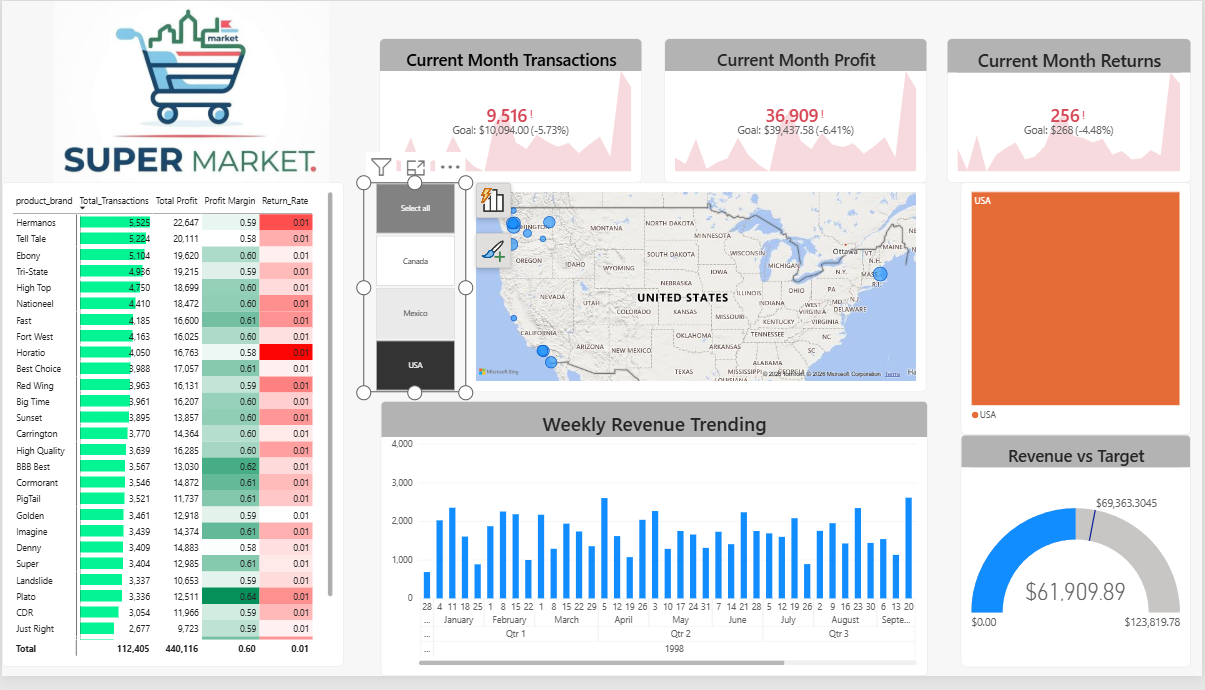

The dashboard page shown, as its layout file describes it:
{"tool":"powerbi","page":{"name":"Topline Performance","canvas":[1920,1080],"ordinal":0},"visuals":[{"type":"textbox","box":[10,580,280,280],"z":0},{"type":"pivotTable","fields":{"Rows":["Products.product_brand"],"Values":["Transaction_Data.Total_Transactions","Transaction_Data.Total Profit","Transaction_Data.Profit Margin","All Measures.Return_Rate"]},"box":[0,290,546.7,775],"z":2000},{"type":"kpi","title":"Current Month Transactions","fields":{"Goal":["Transaction_Data.Last Month Transactions"],"Indicator":["Transaction_Data.Total_Transactions"],"TrendLine":["Calendar.Start of Month"]},"box":[604,60,420,230],"z":3000},{"type":"kpi","title":"Current Month Profit","fields":{"Goal":["Transaction_Data.Last Month Profit"],"Indicator":["Transaction_Data.Total Profit"],"TrendLine":["Calendar.Start of Month"]},"box":[1060,60,420,230],"z":4000},{"type":"kpi","title":"Current Month Returns","fields":{"Goal":["Transaction_Data.Last Month Returns"],"Indicator":["Returns_Data.Total_Returns"],"TrendLine":["Calendar.Start of Month"]},"box":[1512,60,390,230],"z":5000},{"type":"map","fields":{"Category":["Stores.store_city"],"Size":["Transaction_Data.Total_Transactions"]},"box":[742.5,290,737.5,335],"z":6000},{"type":"slicer","fields":{"Values":["Stores.store_country"]},"box":[577.5,290,165,335],"z":7000},{"type":"treemap","fields":{"Group":["Stores.store_country","Stores.store_state","Stores.store_city"],"Values":["Transaction_Data.Total_Transactions"]},"box":[1534,290,368,404],"z":8000},{"type":"clusteredColumnChart","title":"Weekly Revenue Trending","fields":{"Category":["Calendar.Start of Week.Variation.Date Hierarchy.Year","Calendar.Start of Week.Variation.Date Hierarchy.Quarter","Calendar.Start of Week.Variation.Date Hierarchy.Month","Calendar.Start of Week.Variation.Date Hierarchy.Day"],"Y":["Transaction_Data.Total_Transactions"]},"box":[605,640,875,440],"z":9000},{"type":"gauge","title":"Revenue vs Target","fields":{"TargetValue":["Transaction_Data.Revenue Target"],"Y":["Transaction_Data.Total Revenue"]},"box":[1534,694,368,372],"z":9001},{"type":"image","box":[10,18,536,258],"z":9002}]}

Visuals, with their boxes in screenshot pixels (x1, y1, x2, y2), scaled from the page's 1920x1080 canvas onto the 1205x690 screenshot:
textbox: pyautogui.locateOnScreen(6, 371, 182, 549)
pivotTable - Products.product_brand x Transaction_Data.Total_Transactions: pyautogui.locateOnScreen(0, 185, 343, 680)
"Current Month Transactions" kpi: pyautogui.locateOnScreen(379, 38, 643, 185)
"Current Month Profit" kpi: pyautogui.locateOnScreen(665, 38, 929, 185)
"Current Month Returns" kpi: pyautogui.locateOnScreen(949, 38, 1194, 185)
map - Stores.store_city x Transaction_Data.Total_Transactions: pyautogui.locateOnScreen(466, 185, 929, 399)
slicer - Stores.store_country: pyautogui.locateOnScreen(362, 185, 466, 399)
treemap - Stores.store_country x Stores.store_state: pyautogui.locateOnScreen(963, 185, 1194, 443)
"Weekly Revenue Trending" clusteredColumnChart: pyautogui.locateOnScreen(380, 409, 929, 689)
"Revenue vs Target" gauge: pyautogui.locateOnScreen(963, 443, 1194, 681)
image: pyautogui.locateOnScreen(6, 12, 343, 176)
